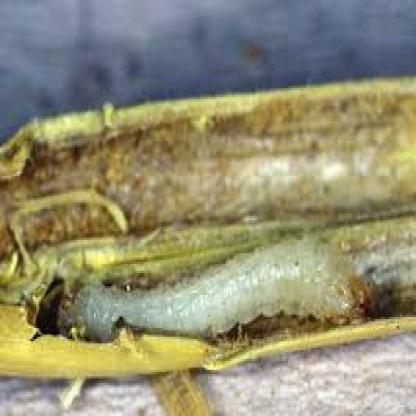sawfly: (15, 221, 374, 343)
